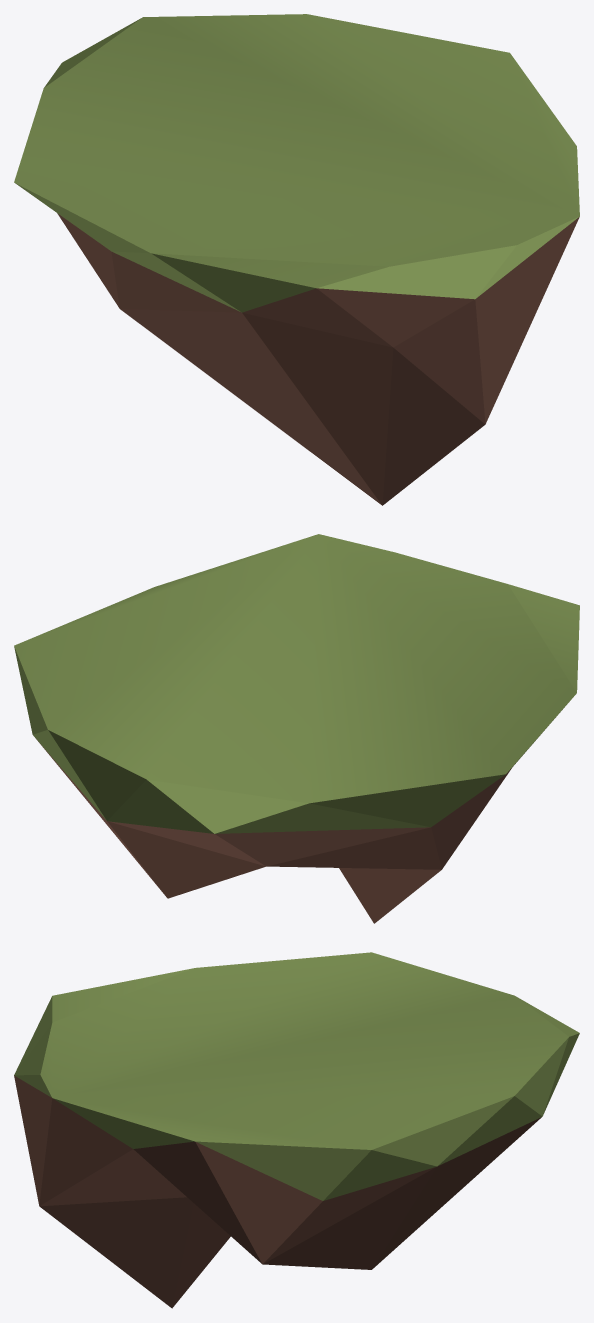
File: lvl1-1eroEscalon.fbx
3 views of the same model, one above another, from view 1: azimuth 30°, elevation 25°; view 2: azimuth 150°, elevation 25°; view 3: azimuth 270°, elevation 25° (orthographic). The views are drawn at different scales.
Visible parts, largest first — view 1: Icosphere; view 2: Icosphere; view 3: Icosphere.
Part boxes in pixels (x1=…): Icosphere: x1=14, y1=14, x2=579, y2=505; Icosphere: x1=14, y1=534, x2=579, y2=923; Icosphere: x1=14, y1=952, x2=579, y2=1308.
Size of the model in its own units: 3152 by 1934 by 3678.
